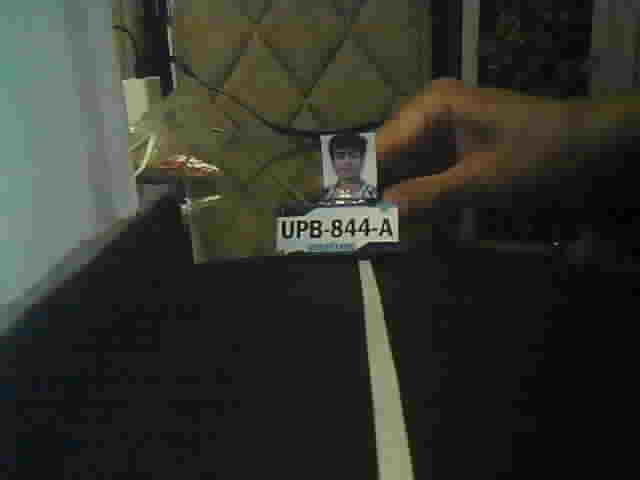PLACA: (274, 201, 400, 256)
ROSTRO: (325, 135, 376, 194)
